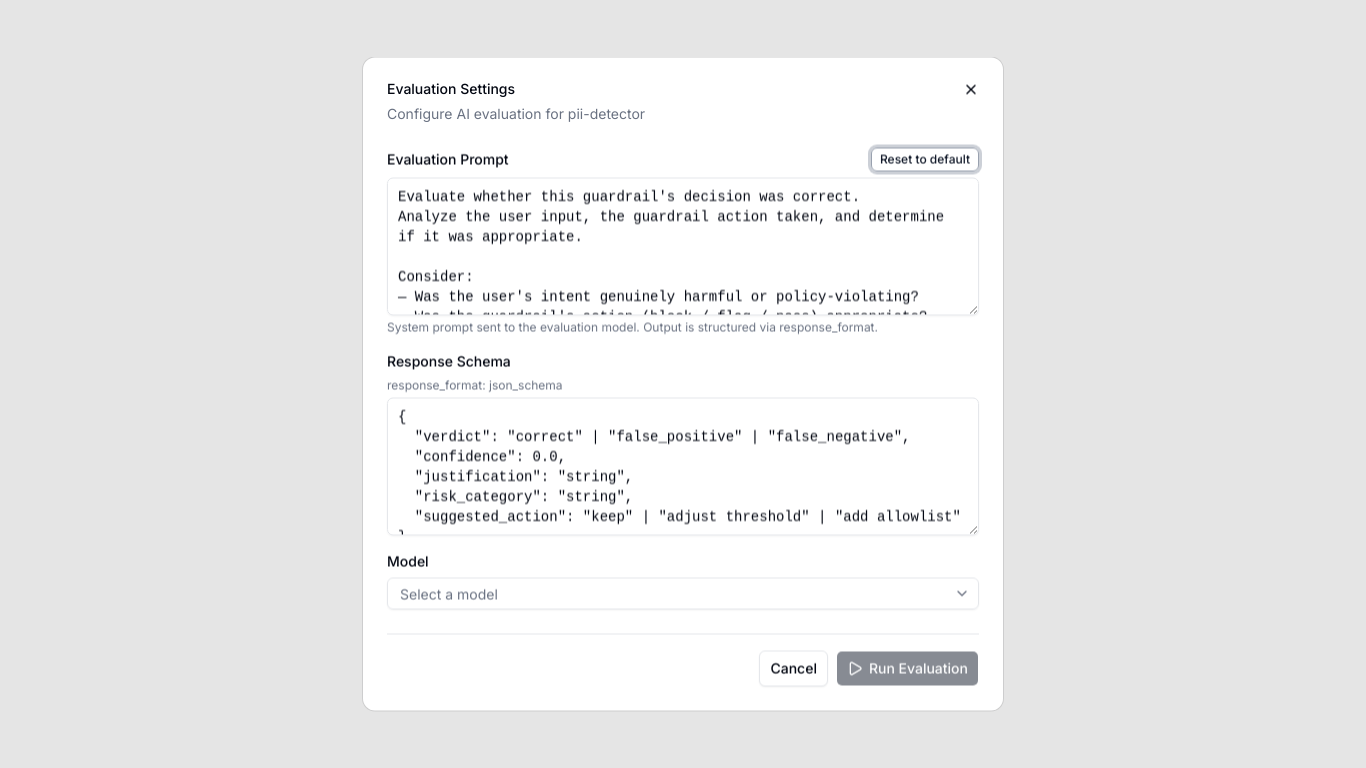
Test: EvaluationSettingsModal › should restore the default prompt when 'Reset to default' is clicked
Replace the text in the text box showing "Evaluate whether this guardrail's decision was correct" with "custom prompt": (683, 246) [387,178,979,316]
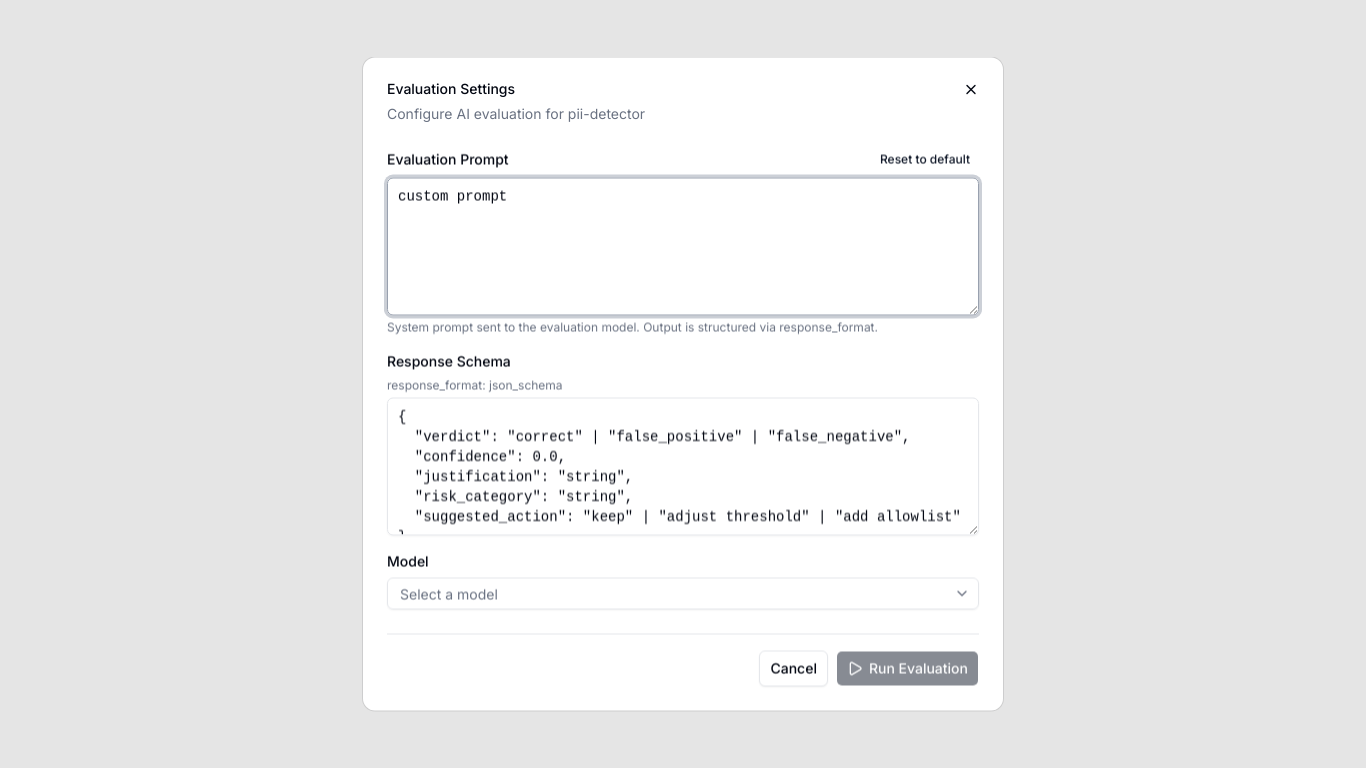
Click the button "Reset to default": (925, 160) [871,148,979,172]
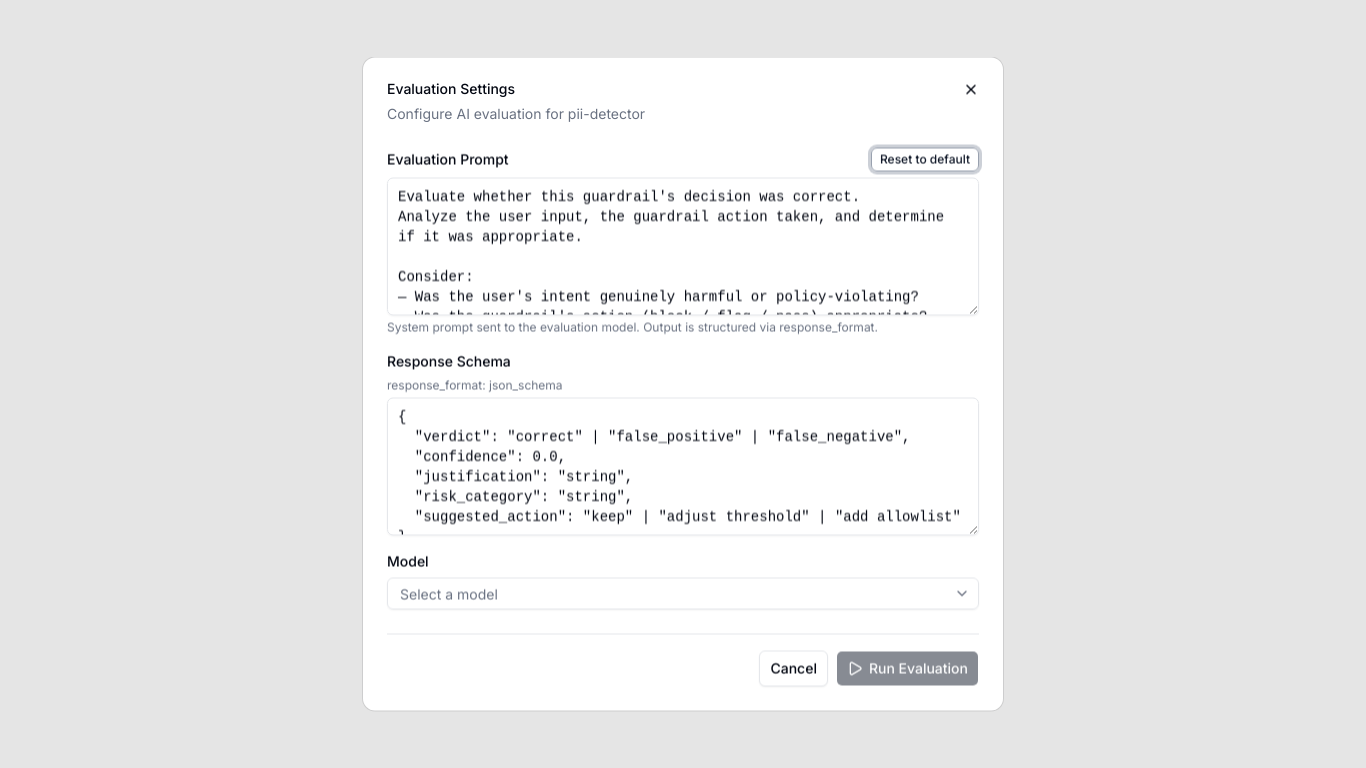
expect the text box showing "Evaluate whether this guardrail's decision was correct" is shown: met, box [387,178,979,316]
